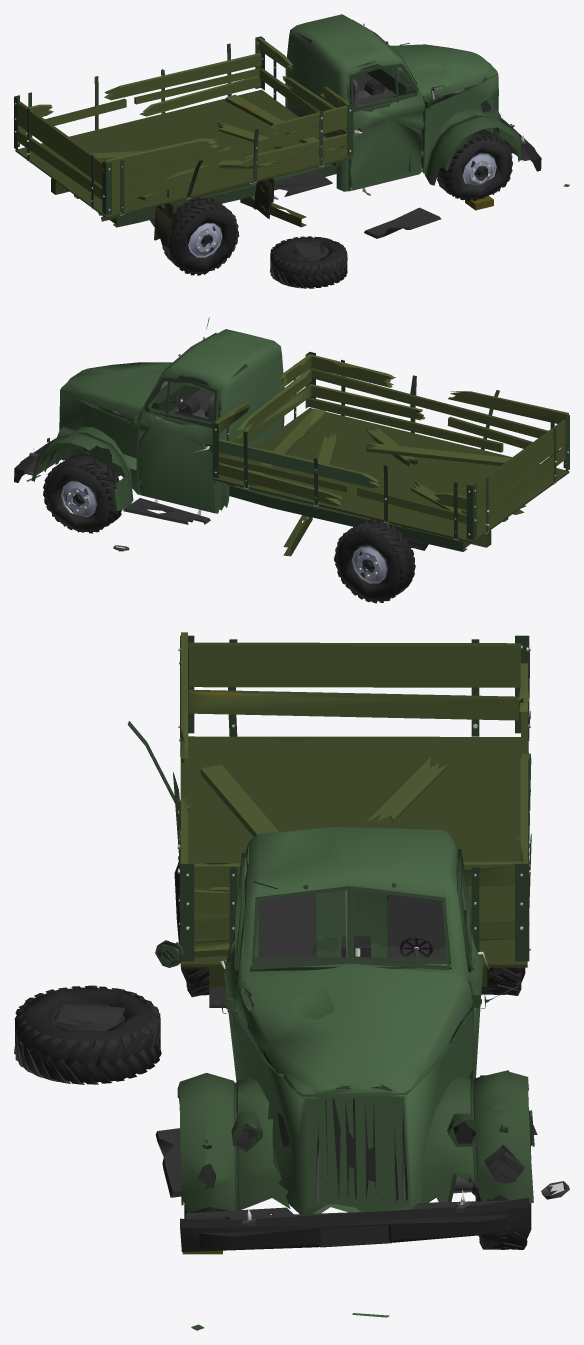
Rendered from gaz51-c.glb.
3 renders of one model, top to bottom at view 1: azimuth 30°, elevation 25°; view 2: azimuth 150°, elevation 25°; view 3: azimuth 270°, elevation 25°, orthographic. The views are drawn at different scales.
Visible parts, largest first — view 1: turn; view 2: turn; view 3: turn.
Boxes of the visible parts, x1,y1,x2,y2 form: turn: (14, 14, 569, 288); turn: (14, 317, 569, 603); turn: (14, 632, 569, 1330).
Bounding box in the file's own units: 0.7102 × 0.2413 × 0.3849.
3 materials, 3 textured.
